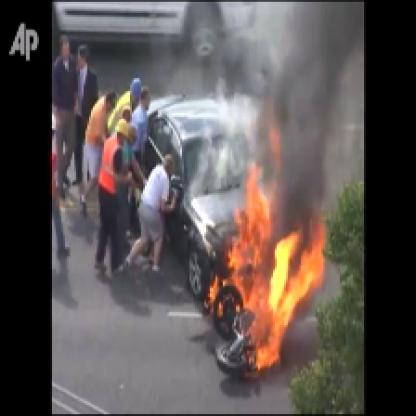Fire: (198, 158, 330, 386)
Smoke: (268, 2, 360, 223)
